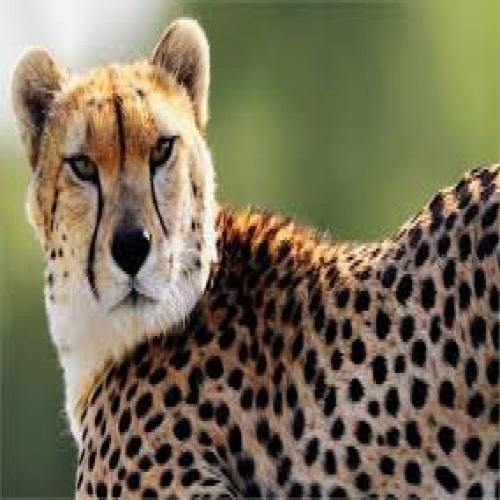cheetah-endangered: (0, 5, 500, 500)
